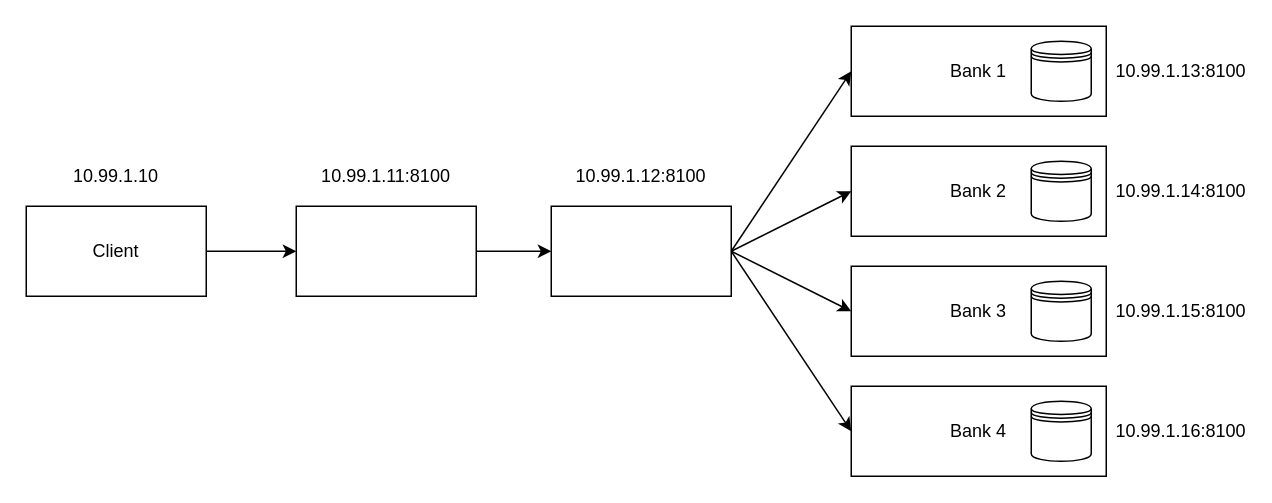
Image size: 1272x503. Some labels were removed from this diagram. Here are the shapes that lost their labels. From the top down, the centre of each, then its label:
the point at 385,250: Sequencer
the point at 640,250: Shuffler
